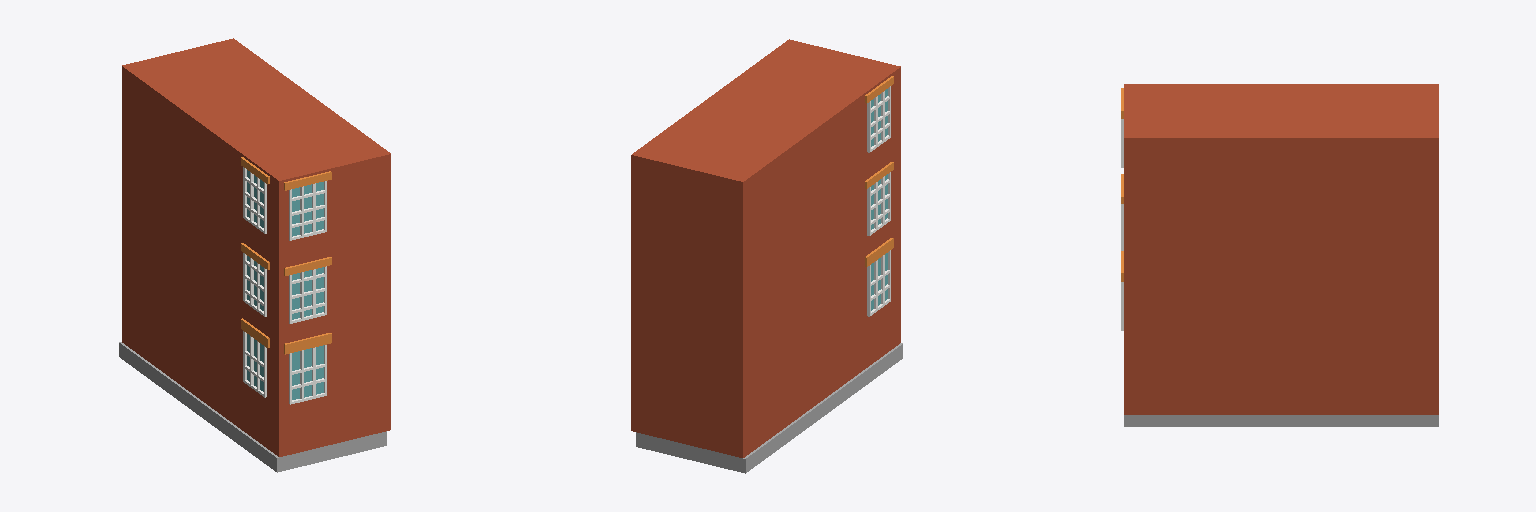
The picture shows the model from 3 angles: view 1: azimuth 30°, elevation 25°; view 2: azimuth 150°, elevation 25°; view 3: azimuth 270°, elevation 25°; orthographic projection.
Parts seen in each view (by area): view 1: Breck-13p; view 2: Breck-13p; view 3: Breck-13p.
Boxes of the visible parts, x1,y1,x2,y2 form: Breck-13p: [119, 38, 390, 472]; Breck-13p: [631, 39, 902, 473]; Breck-13p: [1121, 84, 1438, 426].
Bounding box in the file's own units: 49 × 119 × 118.
1 materials, 1 textured.